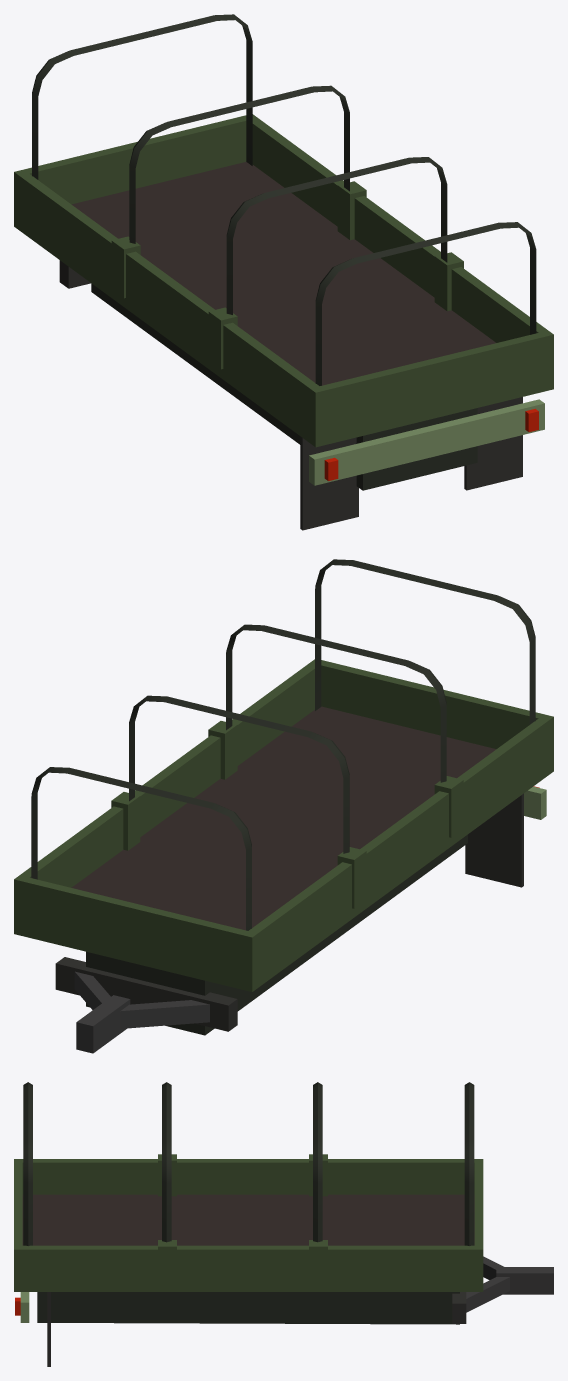
The model's file is military_veh2.fbx.
3 views of the same model, one above another, from view 1: azimuth 30°, elevation 25°; view 2: azimuth 150°, elevation 25°; view 3: azimuth 270°, elevation 25° (orthographic). The views are drawn at different scales.
Parts seen in each view (by area): view 1: military_veh2; view 2: military_veh2; view 3: military_veh2.
Boxes of the visible parts, left/top/right/bottom form: military_veh2: left=14, top=14, right=553, bottom=530; military_veh2: left=14, top=559, right=553, bottom=1053; military_veh2: left=14, top=1082, right=553, bottom=1366.
Size of the model in its own units: 232 by 249 by 575.
